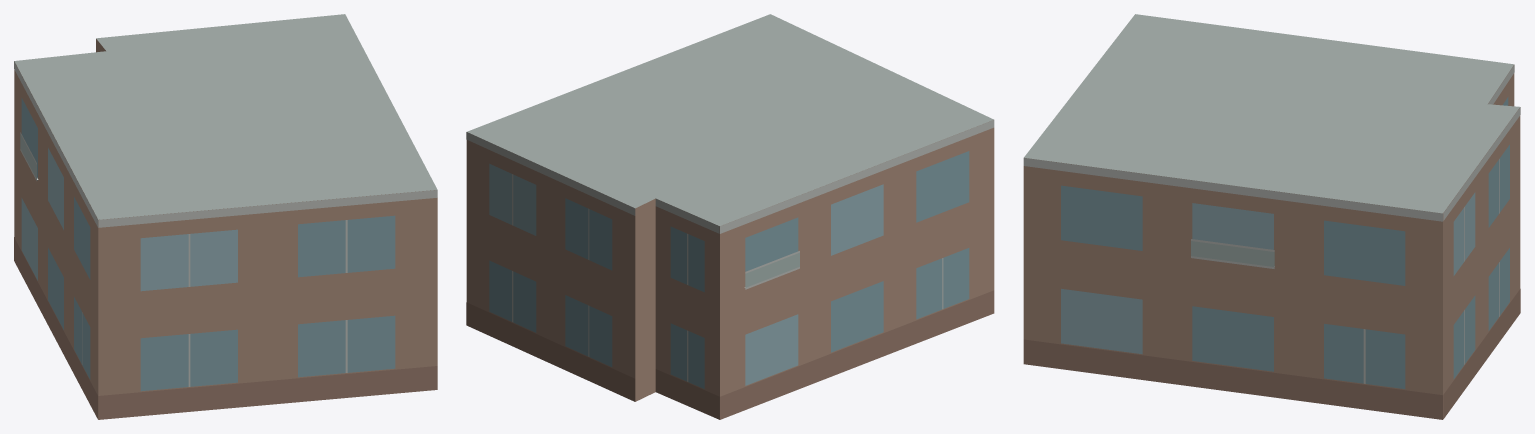
The model's file is survey-upis-32901955.glb.
3 views of the same model, side by side, from view 1: azimuth 30°, elevation 25°; view 2: azimuth 150°, elevation 25°; view 3: azimuth 270°, elevation 25° (orthographic). The views are drawn at different scales.
Visible parts, largest first — view 1: survey-upis-32901955.tmp; view 2: survey-upis-32901955.tmp; view 3: survey-upis-32901955.tmp.
Part boxes in pixels (x1=…): survey-upis-32901955.tmp: x1=14, y1=14, x2=437, y2=419; survey-upis-32901955.tmp: x1=466, y1=14, x2=994, y2=419; survey-upis-32901955.tmp: x1=1023, y1=14, x2=1520, y2=419.
Bounding box in the file's own units: 12.65 × 6.1 × 13.31.
